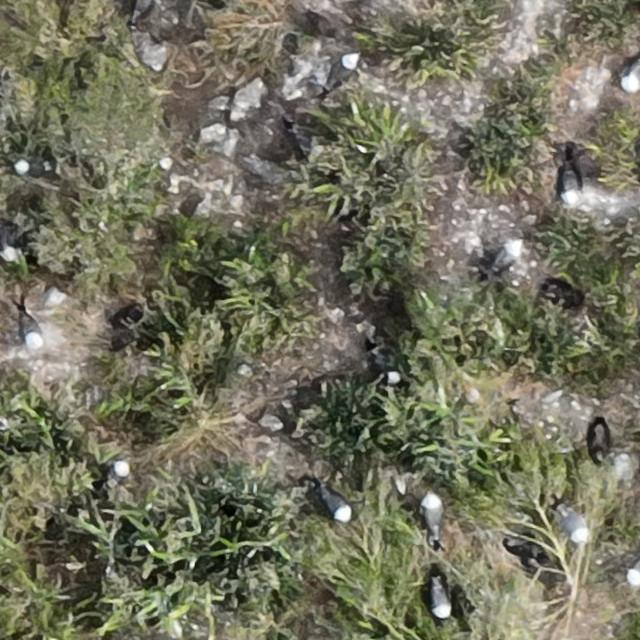umineko: (555, 505, 598, 547), (491, 238, 524, 274), (1, 221, 22, 265), (422, 494, 442, 538), (322, 489, 349, 519), (333, 54, 356, 87), (430, 583, 449, 619), (563, 169, 581, 202), (14, 159, 50, 175), (22, 313, 40, 345), (108, 460, 130, 484)
